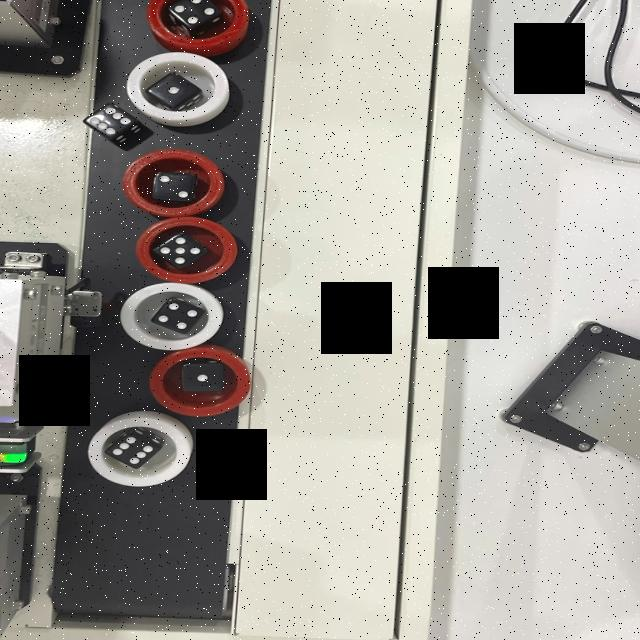DICE1: (154, 78, 194, 104), (185, 366, 220, 390)
DICE2: (152, 174, 196, 202)
DICE4: (156, 303, 200, 331), (172, 0, 218, 25)
DICE5: (157, 238, 203, 266)
DICE6: (82, 106, 134, 138), (109, 434, 153, 464)
RedChip: (148, 346, 252, 414), (133, 218, 238, 284), (124, 150, 222, 217), (142, 1, 250, 48)
WhiteChip: (86, 410, 192, 490), (116, 282, 222, 350), (128, 52, 228, 122)
